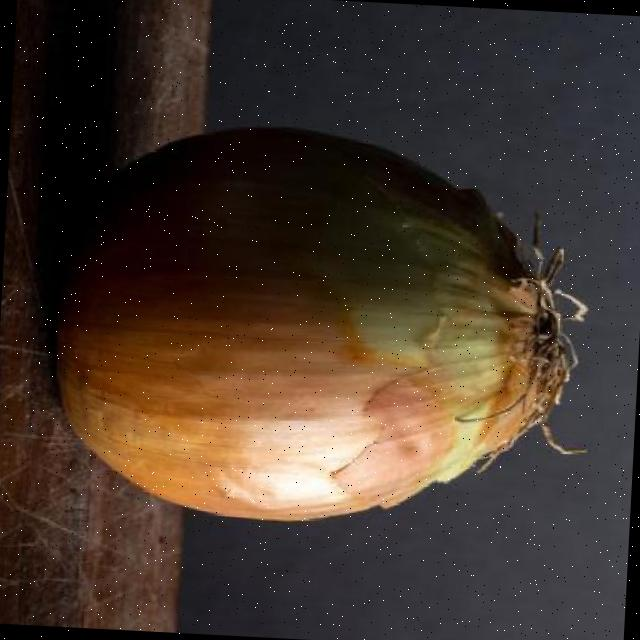Onion: (49, 124, 576, 522)
